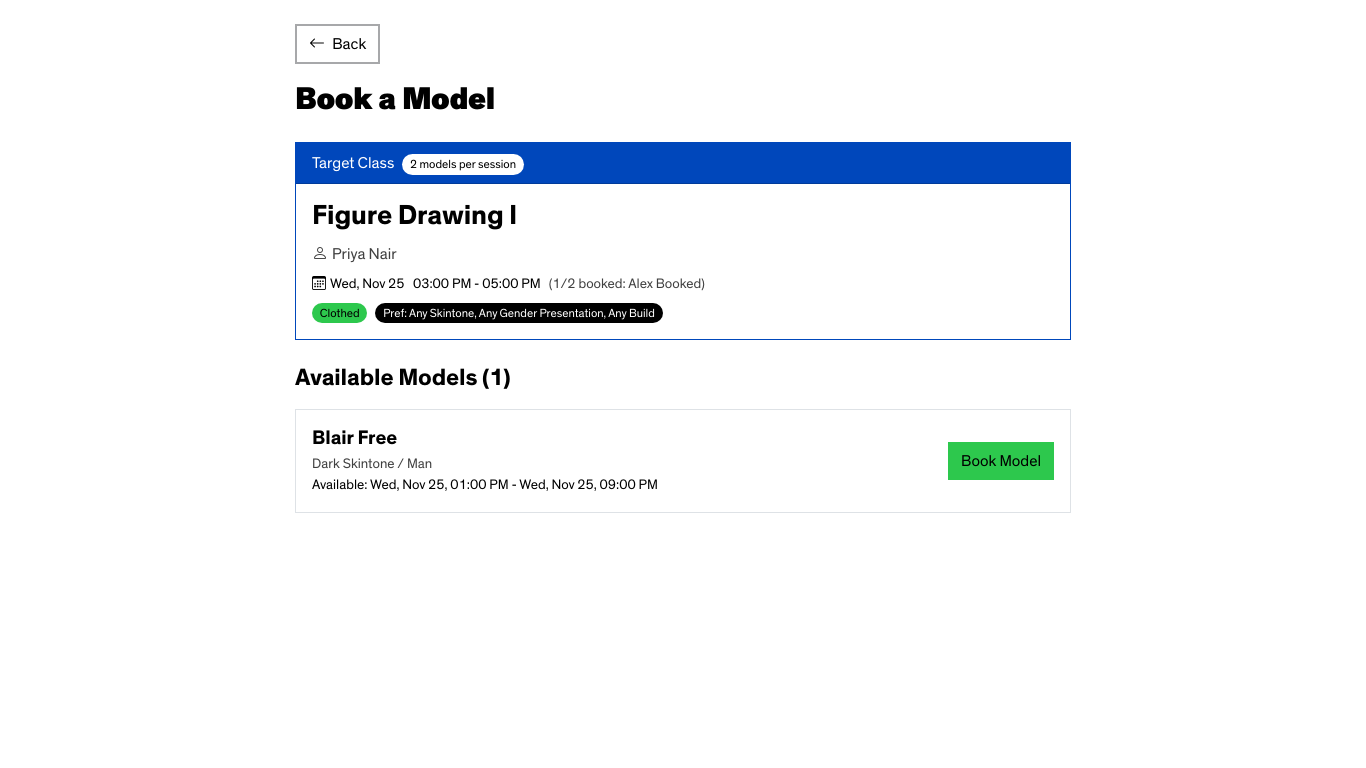
Test: GigCreator (matching screen) › asks before booking, and books nothing if they go back
Later steps or results of the test are not shown.
Click the button "Book Model": x=1001, y=461 [948, 442, 1054, 480]
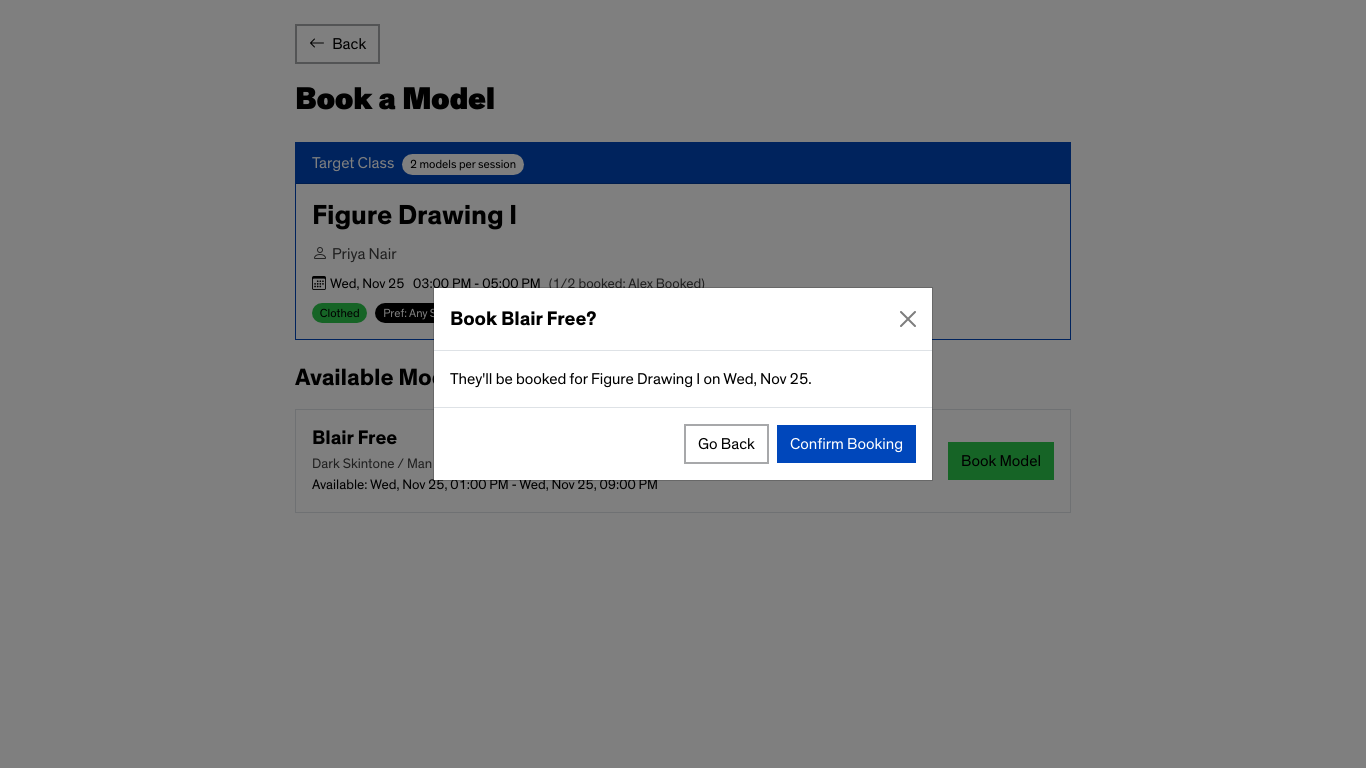
Now the dialog "Book Blair Free?" is shown, box [433, 287, 933, 481]
